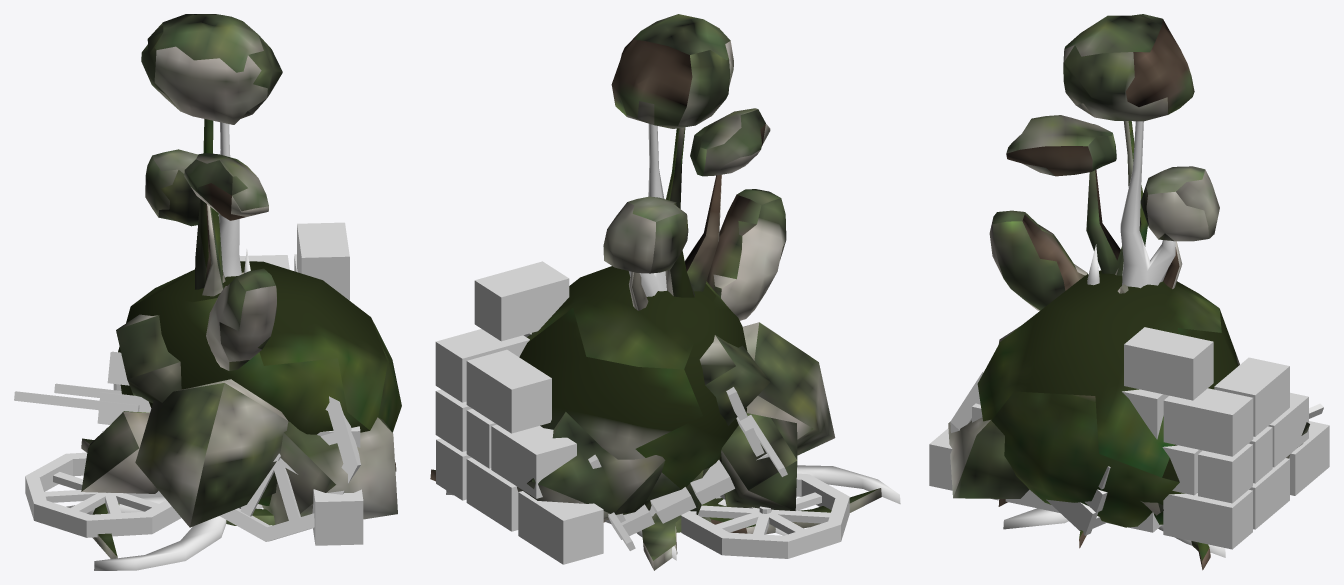
Rendered from Obstacles_v002.fbx.
3 renders of one model, left to right at view 1: azimuth 30°, elevation 25°; view 2: azimuth 150°, elevation 25°; view 3: azimuth 270°, elevation 25°, orthographic. The views are drawn at different scales.
Parts seen in each view (by area): view 1: obstacle_stonePile_low, obstacle_tree_low, obstacle_boulder_low, obstacle_horsecarriage_low, obstacle_ruins_low, obstacle_deadtree_low; view 2: obstacle_tree_low, obstacle_boulder_low, obstacle_ruins_low, obstacle_stonePile_low, obstacle_horsecarriage_low, obstacle_deadtree_low; view 3: obstacle_boulder_low, obstacle_ruins_low, obstacle_tree_low, obstacle_deadtree_low, obstacle_stonePile_low, obstacle_horsecarriage_low.
Part boxes in pixels (x1=…): obstacle_stonePile_low: x1=81, y1=272, x2=397, y2=527; obstacle_tree_low: x1=81, y1=14, x2=396, y2=558; obstacle_boulder_low: x1=118, y1=261, x2=401, y2=505; obstacle_horsecarriage_low: x1=14, y1=351, x2=361, y2=541; obstacle_ruins_low: x1=113, y1=222, x2=363, y2=545; obstacle_deadtree_low: x1=66, y1=122, x2=262, y2=570; obstacle_tree_low: x1=430, y1=14, x2=881, y2=570; obstacle_boulder_low: x1=519, y1=266, x2=747, y2=500; obstacle_ruins_low: x1=435, y1=261, x2=655, y2=564; obstacle_stonePile_low: x1=517, y1=322, x2=835, y2=522; obstacle_horsecarriage_low: x1=588, y1=387, x2=849, y2=558; obstacle_deadtree_low: x1=446, y1=123, x2=900, y2=560; obstacle_boulder_low: x1=977, y1=270, x2=1239, y2=527; obstacle_ruins_low: x1=929, y1=327, x2=1329, y2=549; obstacle_tree_low: x1=989, y1=14, x2=1219, y2=570; obstacle_deadtree_low: x1=1003, y1=121, x2=1225, y2=557; obstacle_stonePile_low: x1=948, y1=284, x2=1309, y2=515; obstacle_horsecarriage_low: x1=950, y1=370, x2=1323, y2=535.
Bounding box in the file's own units: 410 × 503 × 396.
